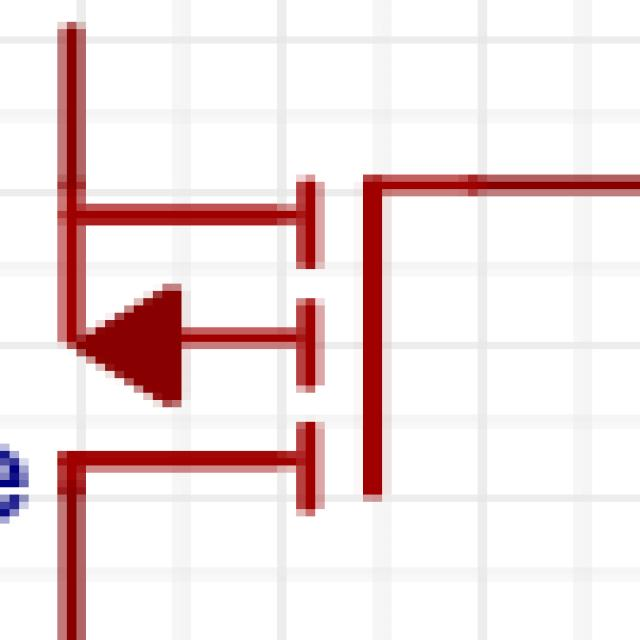pmos: (42, 18, 553, 640)
